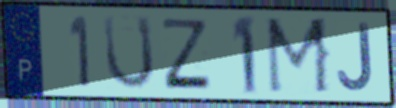1: (230, 14, 259, 96), (67, 14, 92, 91)
J: (335, 22, 375, 94)
M: (264, 15, 333, 97)
U: (102, 13, 157, 92)
Z: (160, 16, 214, 92)
